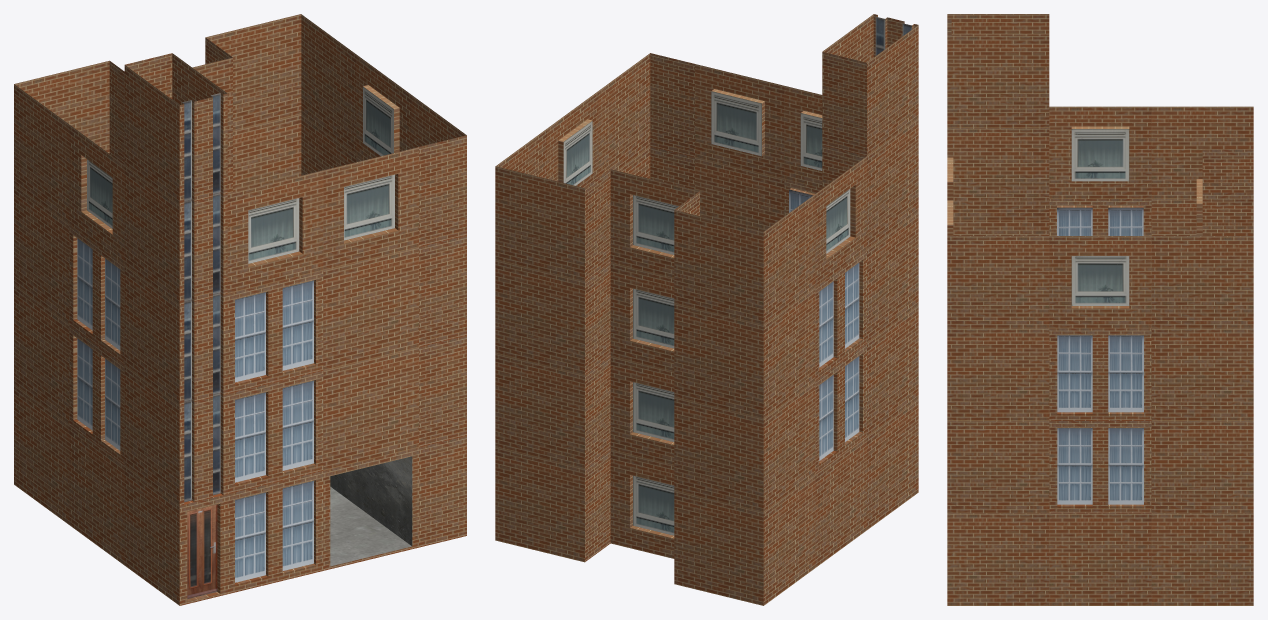
File: building_3.fbx
3 views of the same model, side by side, from view 1: azimuth 30°, elevation 25°; view 2: azimuth 150°, elevation 25°; view 3: azimuth 270°, elevation 25° (orthographic). The views are drawn at different scales.
Visible parts, largest first — view 1: building_2; view 2: building_2; view 3: building_2.
Part boxes in pixels (<box>): building_2: <box>14,14,466,605</box>; building_2: <box>495,14,918,605</box>; building_2: <box>947,14,1253,605</box>.
Size of the model in its own units: 990 by 1650 by 990.
